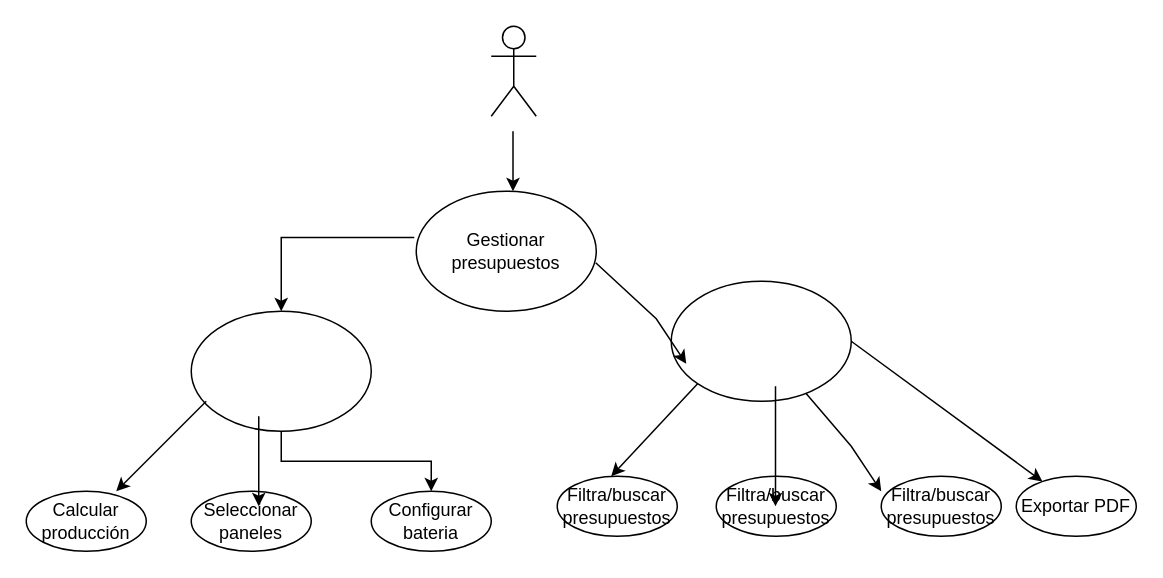
Some shapes in this 1163 by 578 pixel diagram are drawn without their labels. The shapes that lost their labels are listed below. From the top down, each one's box as (x1, y1, x2, y2) in pixels, then its label:
(490, 25, 536, 116): USUARIO
(670, 280, 851, 401): Consultar presupuestos
(190, 310, 371, 431): Crear presupuestos
